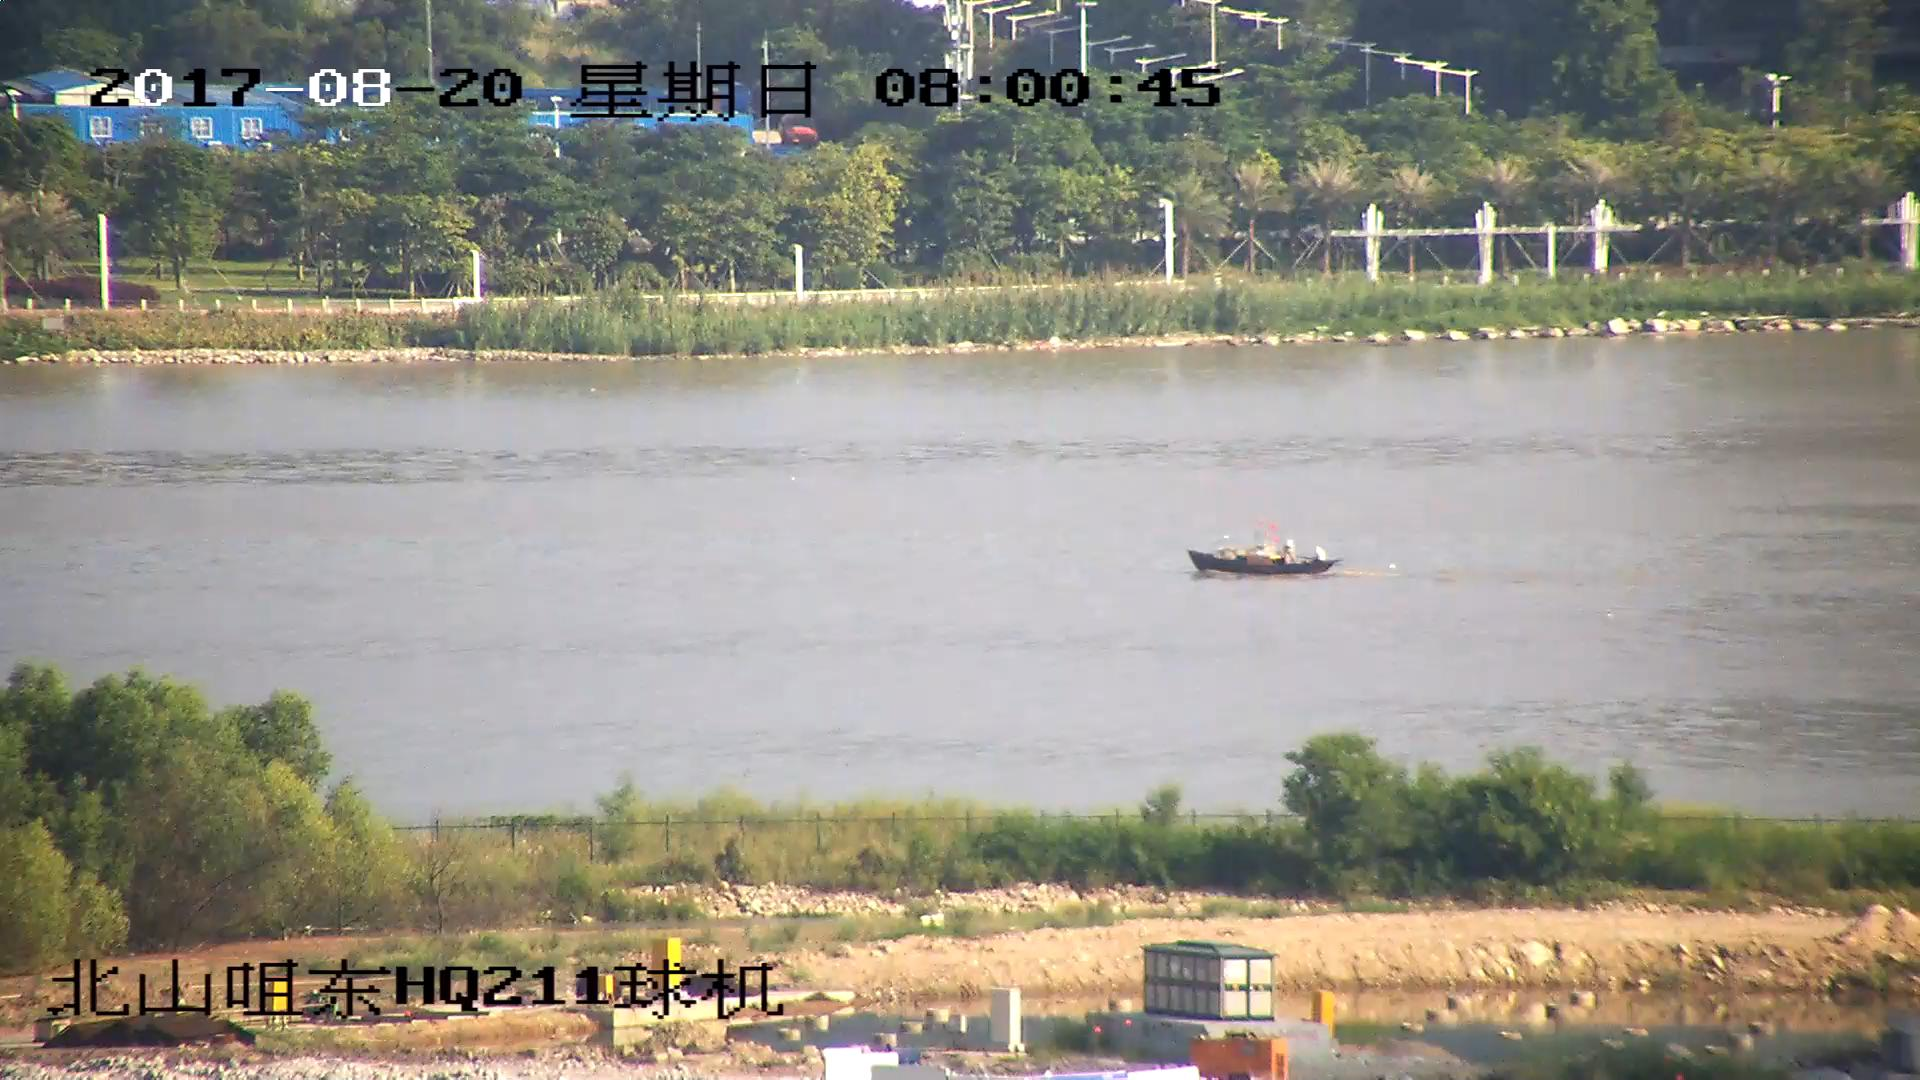fishing boat: (1188, 529, 1335, 577)
